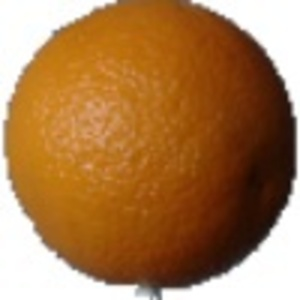laranja: (2, 2, 297, 289)
